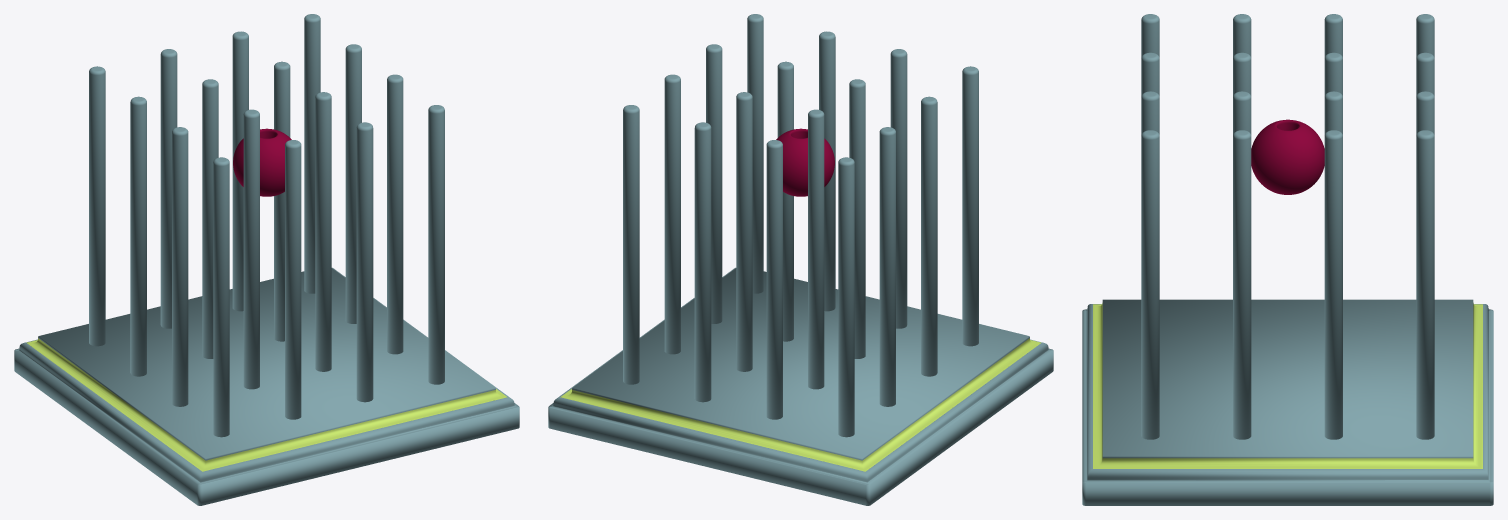
File: TetraLight.glb
3 renders of one model, left to right at view 1: azimuth 30°, elevation 25°; view 2: azimuth 150°, elevation 25°; view 3: azimuth 270°, elevation 25°, orthographic. The views are drawn at different scales.
Visible parts, largest first — view 1: game-board, pile-13, pile-08, pile-09, pile-10, pile-03, pile-15, pile-07, pile-12, pile-14, pile-11, pile-02 (+6 smaller); view 2: game-board, pile-01, pile-04, pile-05, pile-06, pile-15, pile-03, pile-00, pile-02, pile-11, pile-07, pile-14 (+6 smaller); view 3: game-board, pile-00, pile-04, pile-08, pile-12, pearl-specimen, pile-01, pile-13, pile-05, pile-09, pile-02, pile-14 (+6 smaller).
Boxes of the visible parts, bbox=[...] form: game-board: bbox=[14, 267, 519, 505]; pile-13: bbox=[356, 122, 373, 402]; pile-08: bbox=[387, 74, 403, 354]; pile-09: bbox=[315, 92, 331, 371]; pile-10: bbox=[243, 109, 259, 389]; pile-03: bbox=[89, 66, 105, 346]; pile-15: bbox=[213, 157, 229, 437]; pile-07: bbox=[130, 96, 146, 376]; pile-12: bbox=[428, 105, 444, 384]; pile-14: bbox=[285, 140, 301, 419]; pile-11: bbox=[172, 127, 188, 406]; pile-02: bbox=[160, 49, 177, 328]; game-board: bbox=[548, 267, 1053, 505]; pile-01: bbox=[694, 122, 711, 402]; pile-04: bbox=[664, 74, 680, 354]; pile-05: bbox=[736, 92, 752, 371]; pile-06: bbox=[808, 109, 824, 389]; pile-15: bbox=[962, 66, 978, 346]; pile-03: bbox=[838, 157, 854, 437]; pile-00: bbox=[623, 105, 639, 384]; pile-02: bbox=[766, 140, 782, 419]; pile-11: bbox=[921, 96, 937, 376]; pile-07: bbox=[879, 127, 895, 406]; pile-14: bbox=[890, 49, 907, 328]; game-board: bbox=[1082, 299, 1493, 505]; pile-00: bbox=[1416, 130, 1434, 439]; pile-04: bbox=[1324, 130, 1342, 439]; pile-08: bbox=[1233, 130, 1251, 439]; pile-12: bbox=[1141, 130, 1159, 439]; pearl-specimen: bbox=[1251, 119, 1324, 194]; pile-01: bbox=[1416, 91, 1434, 134]; pile-13: bbox=[1141, 91, 1159, 134]; pile-05: bbox=[1324, 91, 1342, 134]; pile-09: bbox=[1233, 91, 1251, 134]; pile-02: bbox=[1416, 52, 1434, 96]; pile-14: bbox=[1141, 52, 1159, 96].
Size of what is drawn, in the model's own units: 2.24 by 2.07 by 2.24.
